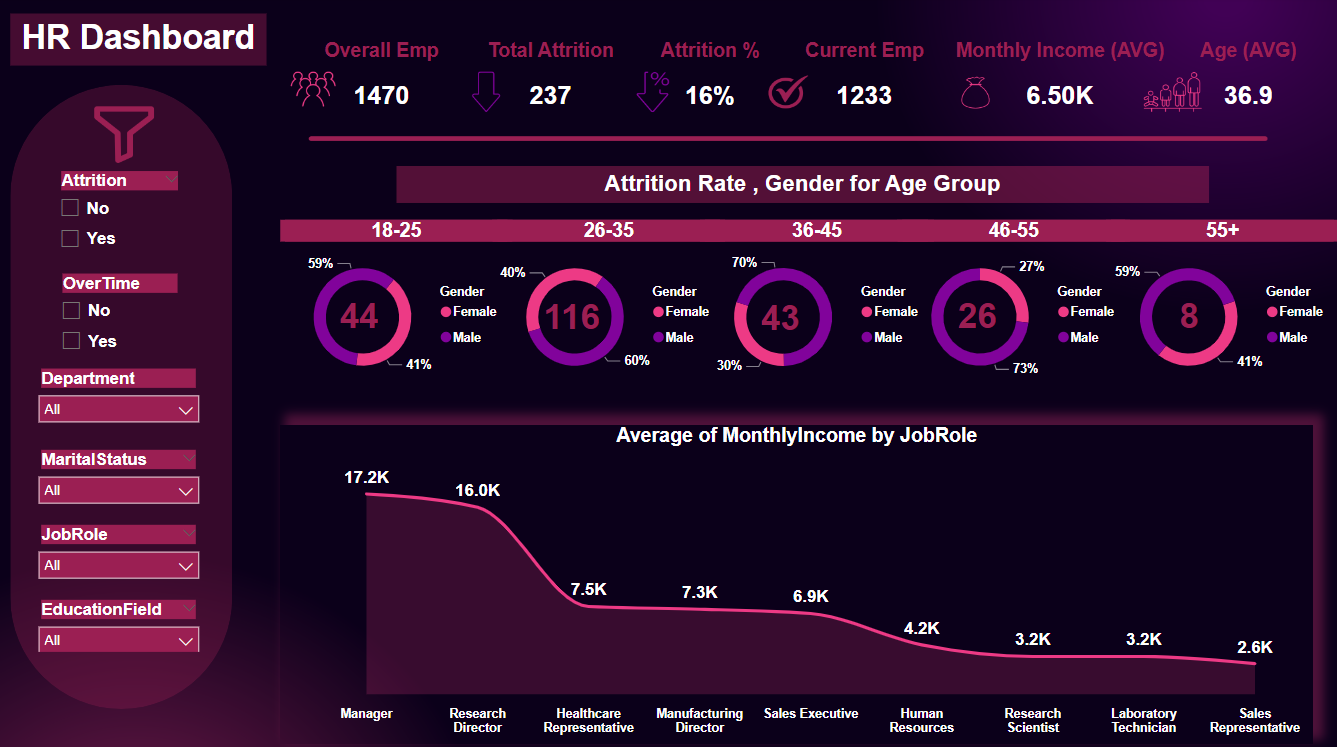

This screenshot's page, from the dashboard's own definition file:
{"tool":"powerbi","page":{"name":"Page 1","canvas":[1280,720],"ordinal":0},"visuals":[{"type":"card","title":"Overall Emp","fields":{"Values":["Count(HR_Analytics.EmpID)"]},"box":[307.9,41.3,121.2,85.5],"z":0},{"type":"card","title":"Total Attrition","fields":{"Values":["Sum(HR_Analytics.Atttition_num)"]},"box":[459,41.3,141.1,85.5],"z":1000},{"type":"card","title":"Attrition %","fields":{"Values":["HR_Analytics.Attrition_rate"]},"box":[628.6,41.3,106.9,85.5],"z":2000},{"type":"card","title":"Current Emp","fields":{"Values":["HR_Analytics.Current_emp"]},"box":[761.2,41.3,134,85.5],"z":3000},{"type":"card","title":"Age (AVG)","fields":{"Values":["Avg(HR_Analytics.Age)"]},"box":[1133.2,41.3,122.6,85.5],"z":4000},{"type":"card","title":"Monthly Income (AVG)","fields":{"Values":["Avg(HR_Analytics.MonthlyIncome)"]},"box":[908,41.3,213.8,85.5],"z":5000},{"type":"areaChart","fields":{"Category":["HR_Analytics.JobRole"],"Y":["Avg(HR_Analytics.MonthlyIncome)"]},"box":[272.6,408.3,983.4,303.8],"z":6000},{"type":"donutChart","title":"18-25","fields":{"Y":["Sum(HR_Analytics.Atttition_num)"],"Category":["HR_Analytics.Gender"],"Series":["HR_Analytics.AgeGroup"]},"box":[272.6,212.5,220.9,169.3],"z":7000},{"type":"donutChart","title":"55+","fields":{"Y":["Sum(HR_Analytics.Atttition_num)"],"Category":["HR_Analytics.Gender"],"Series":["HR_Analytics.AgeGroup"]},"box":[1059.1,212.5,220.9,169.3],"z":8000},{"type":"donutChart","title":"26-35","fields":{"Y":["Sum(HR_Analytics.Atttition_num)"],"Category":["HR_Analytics.Gender"],"Series":["HR_Analytics.AgeGroup"]},"box":[474.3,212.5,220.9,169.3],"z":9000},{"type":"donutChart","title":"36-45","fields":{"Y":["Sum(HR_Analytics.Atttition_num)"],"Category":["HR_Analytics.Gender"],"Series":["HR_Analytics.AgeGroup"]},"box":[672.4,212.5,222.1,169.3],"z":10000},{"type":"donutChart","title":"46-55","fields":{"Y":["Sum(HR_Analytics.Atttition_num)"],"Category":["HR_Analytics.Gender"],"Series":["HR_Analytics.AgeGroup"]},"box":[860.9,212.5,220.9,169.3],"z":11000},{"type":"textbox","box":[383,162.1,773.3,34.8],"z":12000},{"type":"card","fields":{"Values":["Sum(HR_Analytics.Atttition_num)"]},"box":[313.4,269,69.6,68.4],"z":13000},{"type":"card","fields":{"Values":["Sum(HR_Analytics.Atttition_num)"]},"box":[1098.7,269,79.2,68.4],"z":14000},{"type":"card","fields":{"Values":["Sum(HR_Analytics.Atttition_num)"]},"box":[900.6,269,70.8,68.4],"z":15000},{"type":"card","fields":{"Values":["Sum(HR_Analytics.Atttition_num)"]},"box":[714.4,271.4,69.6,68.4],"z":16000},{"type":"card","fields":{"Values":["Sum(HR_Analytics.Atttition_num)"]},"box":[515.1,270.2,69.6,68.4],"z":17000},{"type":"shape","box":[15.6,84.1,211.3,594.4],"z":18000},{"type":"slicer","fields":{"Values":["HR_Analytics.Attrition"]},"box":[51.6,162.1,136.9,91.3],"z":19000},{"type":"slicer","fields":{"Values":["HR_Analytics.Department"]},"box":[32.4,349.4,172.9,64.8],"z":20000},{"type":"slicer","fields":{"Values":["HR_Analytics.OverTime"]},"box":[52.8,259.4,135.7,87.7],"z":21000},{"type":"slicer","fields":{"Values":["HR_Analytics.MaritalStatus"]},"box":[32.4,427.5,172.9,61.2],"z":22000},{"type":"slicer","fields":{"Values":["HR_Analytics.JobRole"]},"box":[32.4,498.3,172.9,62.4],"z":23000},{"type":"textbox","box":[15.6,16.8,243.8,49.2],"z":24000},{"type":"slicer","fields":{"Values":["HR_Analytics.EducationField"]},"box":[32.4,570.4,172.9,54],"z":25000}]}

Visuals, with their boxes in screenshot pixels (x1, y1, x2, y2), scaled from the page's 1280x720 canvas onto the 1337x747 screenshot:
"Overall Emp" card: x1=322, y1=43, x2=448, y2=132
"Total Attrition" card: x1=479, y1=43, x2=627, y2=132
"Attrition %" card: x1=657, y1=43, x2=768, y2=132
"Current Emp" card: x1=795, y1=43, x2=935, y2=132
"Age (AVG)" card: x1=1184, y1=43, x2=1312, y2=132
"Monthly Income (AVG)" card: x1=948, y1=43, x2=1172, y2=132
areaChart - HR_Analytics.JobRole x Avg(HR_Analytics.MonthlyIncome): x1=285, y1=424, x2=1312, y2=739
"18-25" donutChart: x1=285, y1=220, x2=515, y2=396
"55+" donutChart: x1=1106, y1=220, x2=1336, y2=396
"26-35" donutChart: x1=495, y1=220, x2=726, y2=396
"36-45" donutChart: x1=702, y1=220, x2=934, y2=396
"46-55" donutChart: x1=899, y1=220, x2=1130, y2=396
textbox: x1=400, y1=168, x2=1208, y2=204
card - Sum(HR_Analytics.Atttition_num): x1=327, y1=279, x2=400, y2=350
card - Sum(HR_Analytics.Atttition_num): x1=1148, y1=279, x2=1230, y2=350
card - Sum(HR_Analytics.Atttition_num): x1=941, y1=279, x2=1015, y2=350
card - Sum(HR_Analytics.Atttition_num): x1=746, y1=282, x2=819, y2=353
card - Sum(HR_Analytics.Atttition_num): x1=538, y1=280, x2=611, y2=351
shape: x1=16, y1=87, x2=237, y2=704
slicer - HR_Analytics.Attrition: x1=54, y1=168, x2=197, y2=263
slicer - HR_Analytics.Department: x1=34, y1=363, x2=214, y2=430
slicer - HR_Analytics.OverTime: x1=55, y1=269, x2=197, y2=360
slicer - HR_Analytics.MaritalStatus: x1=34, y1=444, x2=214, y2=507
slicer - HR_Analytics.JobRole: x1=34, y1=517, x2=214, y2=582
textbox: x1=16, y1=17, x2=271, y2=68
slicer - HR_Analytics.EducationField: x1=34, y1=592, x2=214, y2=648
